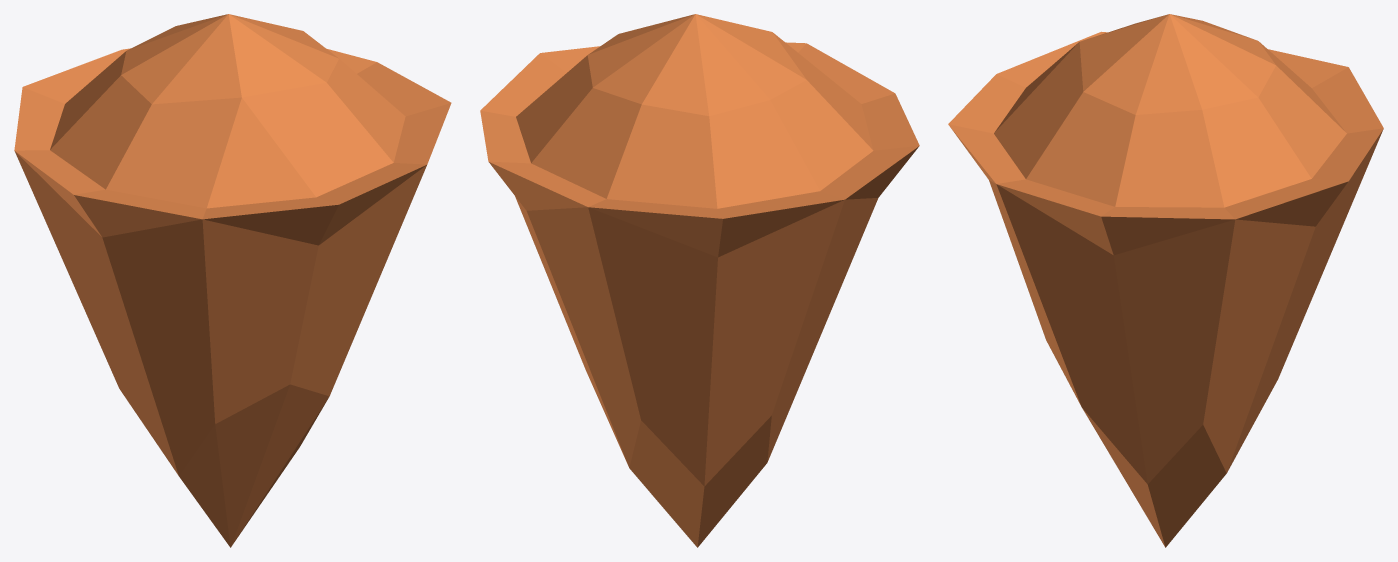
File: Gem3.fbx
The picture shows the model from 3 angles, left to right: view 1: azimuth 30°, elevation 25°; view 2: azimuth 150°, elevation 25°; view 3: azimuth 270°, elevation 25°; orthographic projection.
Visible parts, largest first — view 1: Diamont; view 2: Diamont; view 3: Diamont.
Part boxes in pixels (x1=…): Diamont: x1=14, y1=14, x2=451, y2=547; Diamont: x1=480, y1=14, x2=919, y2=547; Diamont: x1=948, y1=14, x2=1383, y2=547.
Size of the model in its own units: 132 by 178 by 131.
